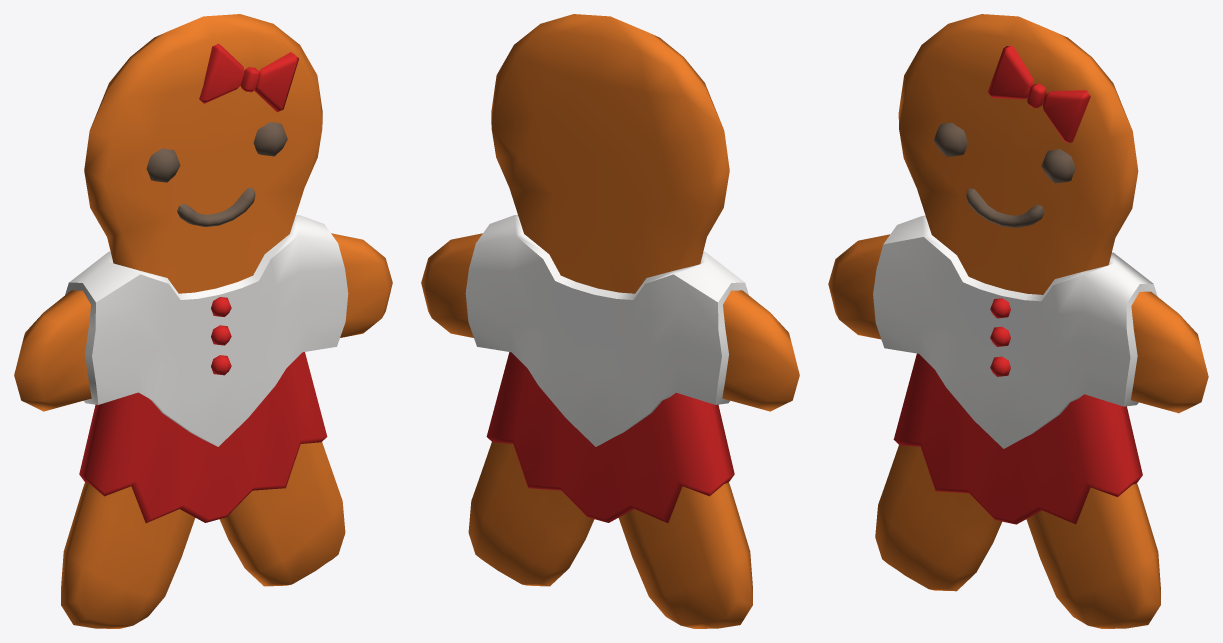
File: Christmas_Gingerbread_girl_231109.glb
3 views of the same model, side by side, from view 1: azimuth 30°, elevation 25°; view 2: azimuth 150°, elevation 25°; view 3: azimuth 330°, elevation 25° (orthographic).
Visible parts, largest first — view 1: Gingerbread_girl; view 2: Gingerbread_girl; view 3: Gingerbread_girl.
Part boxes in pixels (box(x1,y1,x2,y2)): Gingerbread_girl: box(14, 14, 392, 628); Gingerbread_girl: box(421, 14, 799, 628); Gingerbread_girl: box(828, 14, 1208, 628).
Size of the model in its own units: 0.8384 by 1.25 by 0.1529.
Materials: 1 (1 with a texture image).
